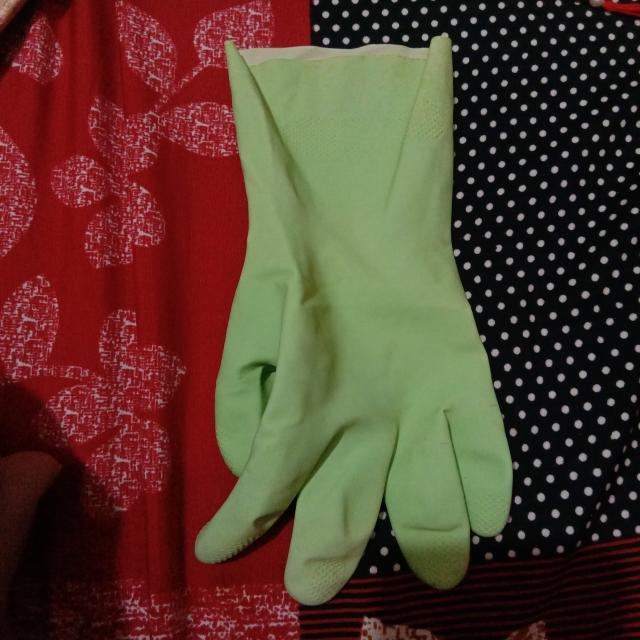glove_hand: (187, 28, 522, 612)
